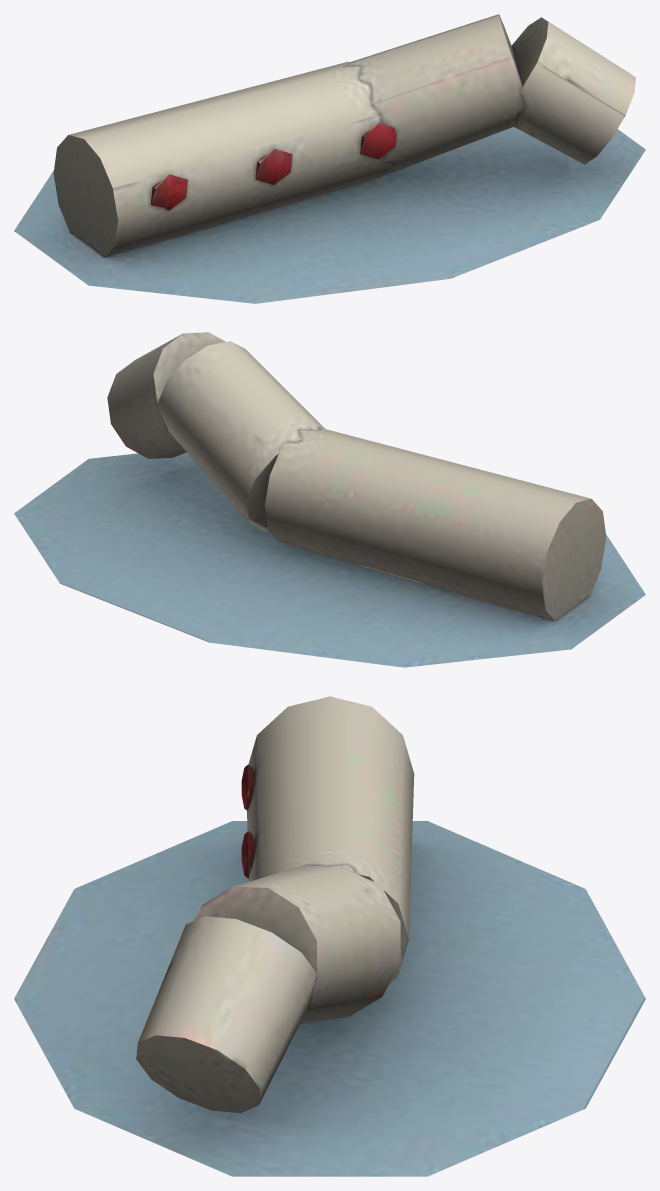
The model's file is pajita_doblada.glb.
3 renders of one model, top to bottom at view 1: azimuth 30°, elevation 25°; view 2: azimuth 150°, elevation 25°; view 3: azimuth 270°, elevation 25°, orthographic. The views are drawn at different scales.
Visible parts, largest first — view 1: pajita_doblada; view 2: pajita_doblada; view 3: pajita_doblada.
Boxes of the visible parts, x1,y1,x2,y2 form: pajita_doblada: (14, 14, 645, 303); pajita_doblada: (14, 332, 645, 667); pajita_doblada: (14, 696, 645, 1176).
Size of the model in its own units: 3.2 by 0.9022 by 2.4.
1 material, 1 textured.
